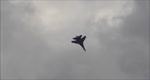maybay_muctieu: (71, 35, 88, 51)
